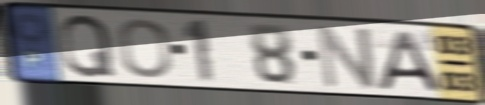1: (181, 18, 217, 85)
8: (247, 22, 299, 87)
A: (374, 28, 444, 94)
N: (315, 23, 380, 91)
O: (116, 17, 175, 80)
Q: (58, 12, 118, 79)
